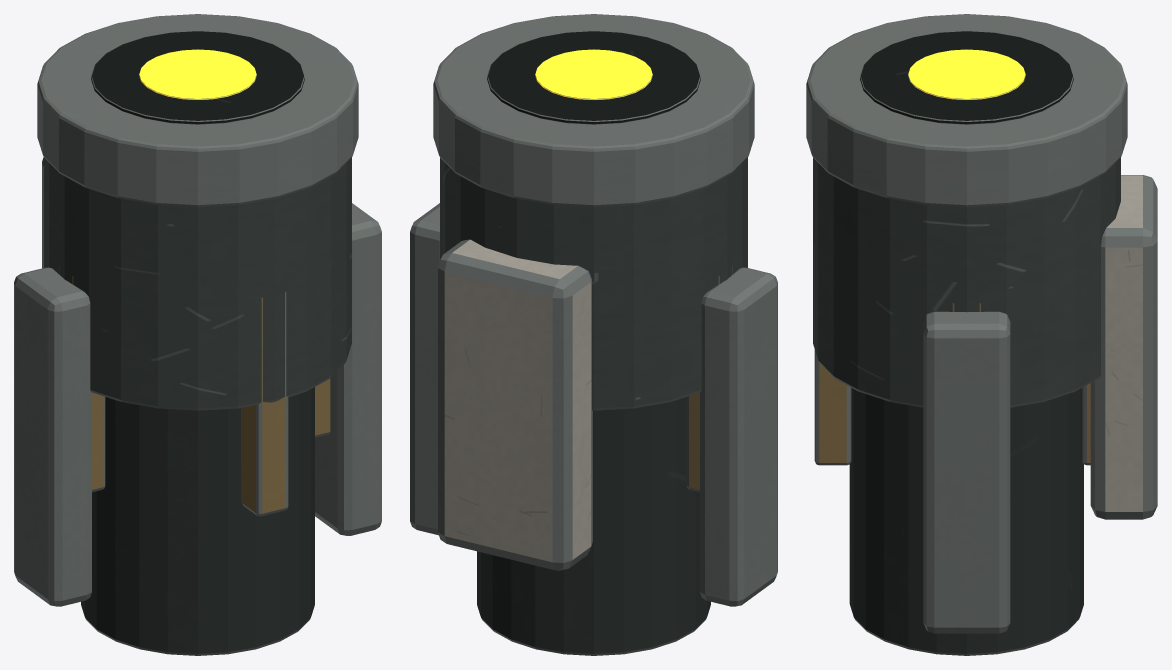
The model's file is arm_cannon-t4.glb.
3 renders of one model, left to right at view 1: azimuth 30°, elevation 25°; view 2: azimuth 150°, elevation 25°; view 3: azimuth 270°, elevation 25°, orthographic.
Visible parts, largest first — view 1: Emitter shell, Forearm recoil sleeve, Emitter collar, Recoil stabilizer, Recoil stabilizer.001, Deep emitter bore, Charge chamber rail.003, Emitter recessed lens, Charge chamber rail.002, Charge chamber rail; view 2: Emitter dorsal shield, Emitter collar, Emitter shell, Forearm recoil sleeve, Recoil stabilizer, Deep emitter bore, Recoil stabilizer.001, Emitter recessed lens, Charge chamber rail.002; view 3: Emitter shell, Forearm recoil sleeve, Emitter collar, Recoil stabilizer.001, Emitter dorsal shield, Deep emitter bore, Emitter recessed lens, Charge chamber rail.003, Charge chamber rail.001.
Boxes of the visible parts, x1,y1,x2,y2 form: Emitter shell: (44,158,351,410); Forearm recoil sleeve: (81,387,314,655); Emitter collar: (37,14,358,207); Recoil stabilizer: (14,267,91,606); Recoil stabilizer.001: (315,203,381,535); Deep emitter bore: (91,31,304,124); Charge chamber rail.003: (241,292,288,516); Emitter recessed lens: (139,49,256,100); Charge chamber rail.002: (59,266,105,492); Charge chamber rail: (315,379,330,437); Emitter dorsal shield: (438,239,592,570); Emitter collar: (433,14,754,207); Emitter shell: (440,158,747,410); Forearm recoil sleeve: (477,397,710,655); Recoil stabilizer: (700,267,777,606); Deep emitter bore: (487,31,700,124); Recoil stabilizer.001: (410,203,439,535); Emitter recessed lens: (535,49,652,100); Charge chamber rail.002: (686,266,732,492); Emitter shell: (813,157,1120,407); Forearm recoil sleeve: (849,388,1083,655); Emitter collar: (806,14,1127,207); Recoil stabilizer.001: (923,311,1010,633); Emitter dorsal shield: (1090,175,1157,519); Deep emitter bore: (860,31,1073,124); Emitter recessed lens: (908,49,1025,100); Charge chamber rail.003: (814,245,851,465); Charge chamber rail.001: (1082,383,1090,465).
Bounding box in the file's own units: 0.575 × 0.88 × 0.525.
7 materials, 6 textured.
